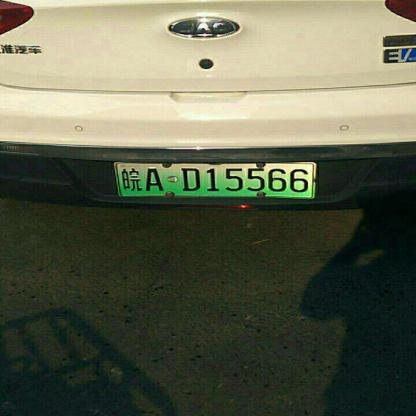lp: (117, 163, 312, 197)
